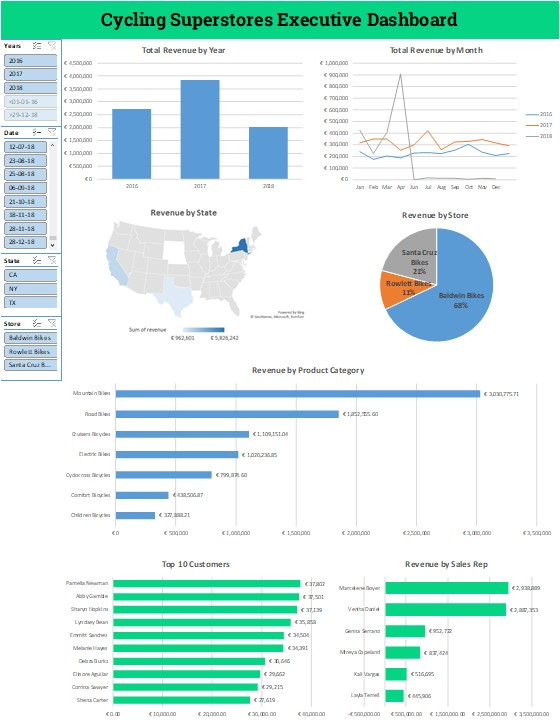

What the dashboard file says about the page in this screenshot:
{"tool":"tableau","page":{"name":"CyclingSuperstores Dashboard","canvas":[800,1600],"ordinal":0},"visuals":[{"type":"image","param":"Image/CyclingSuperstoresLogo.jpeg","box":[8,8,106,103]},{"type":"text","box":[114,8,569,103]},{"type":"worksheet","title":"Select Year","mark":"Automatic","box":[683,8,109,103]},{"type":"worksheet","title":"SUMMARY","mark":"Automatic","box":[8,111,784,135]},{"type":"worksheet","title":"Profitability","mark":"Automatic","box":[8,246,616,48]},{"type":"filter","title":"Revenue / State","param":"[federated.06gm1e316tpgxt1fbutfz1mh7xif].[none:state:nk]","box":[624,246,168,48]},{"type":"worksheet","title":"Revenue / Year","mark":"Bar","rows":["revenue"],"cols":["order_date"],"box":[8,294,373,280]},{"type":"worksheet","title":"Revenue / Month","mark":"Automatic","rows":["revenue"],"cols":["order_date"],"box":[381,294,411,280]},{"type":"worksheet","title":"Revenue / State","mark":"Multipolygon","box":[8,574,437,313]},{"type":"worksheet","title":"Revenue / Store","mark":"Pie","box":[445,574,347,313]},{"type":"worksheet","title":"Revenue / Category","mark":"Automatic","box":[8,887,784,352.5]},{"type":"worksheet","title":"Revenue / Sales Rep","mark":"Automatic","rows":["sales_rep"],"cols":["revenue"],"box":[8,1239.5,402,352.5]},{"type":"worksheet","title":"Top Customers","mark":"Automatic","rows":["customers"],"cols":["revenue"],"box":[410,1239.5,382,352.5]}]}

Visuals, with their boxes on the page's 800x1600 design canvas (x1, y1, x2, y2). These are canvas units, not pixel positions in the 560x720 screenshot, which may show the page scaled, cropped or inside an application window:
image: select_region(8, 8, 114, 111)
text: select_region(114, 8, 683, 111)
"Select Year" worksheet: select_region(683, 8, 792, 111)
"SUMMARY" worksheet: select_region(8, 111, 792, 246)
"Profitability" worksheet: select_region(8, 246, 624, 294)
"Revenue / State" filter: select_region(624, 246, 792, 294)
"Revenue / Year" worksheet (Bar marks): select_region(8, 294, 381, 574)
"Revenue / Month" worksheet: select_region(381, 294, 792, 574)
"Revenue / State" worksheet (Multipolygon marks): select_region(8, 574, 445, 887)
"Revenue / Store" worksheet (Pie marks): select_region(445, 574, 792, 887)
"Revenue / Category" worksheet: select_region(8, 887, 792, 1240)
"Revenue / Sales Rep" worksheet: select_region(8, 1240, 410, 1592)
"Top Customers" worksheet: select_region(410, 1240, 792, 1592)
